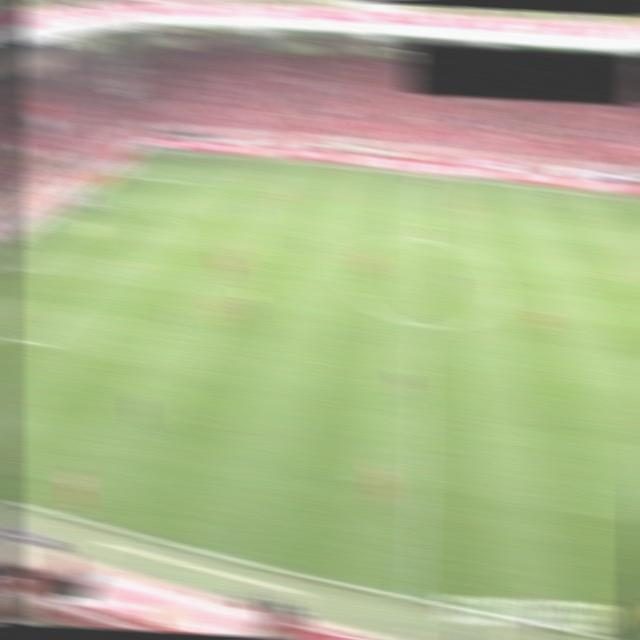bigarea_bottom_inner: (25, 330, 56, 355)
bigarea_top_inner: (188, 173, 217, 190)
bigarea_top_outter: (102, 170, 131, 186)
bottom_arc_area_intersection: (101, 258, 131, 278)
corner: (138, 143, 169, 159)
halfcircle_bottom: (404, 308, 442, 338)
halfcircle_top: (407, 224, 441, 251)
midline_bottom_intersection: (395, 580, 437, 608)
midline_top_intersection: (409, 164, 441, 187)
smallarea_bottom_inner: (12, 258, 42, 280)
smallarea_top_inner: (94, 194, 125, 213)
smallarea_top_outter: (66, 193, 97, 211)
top_arc_area_intersection: (154, 205, 182, 222)
